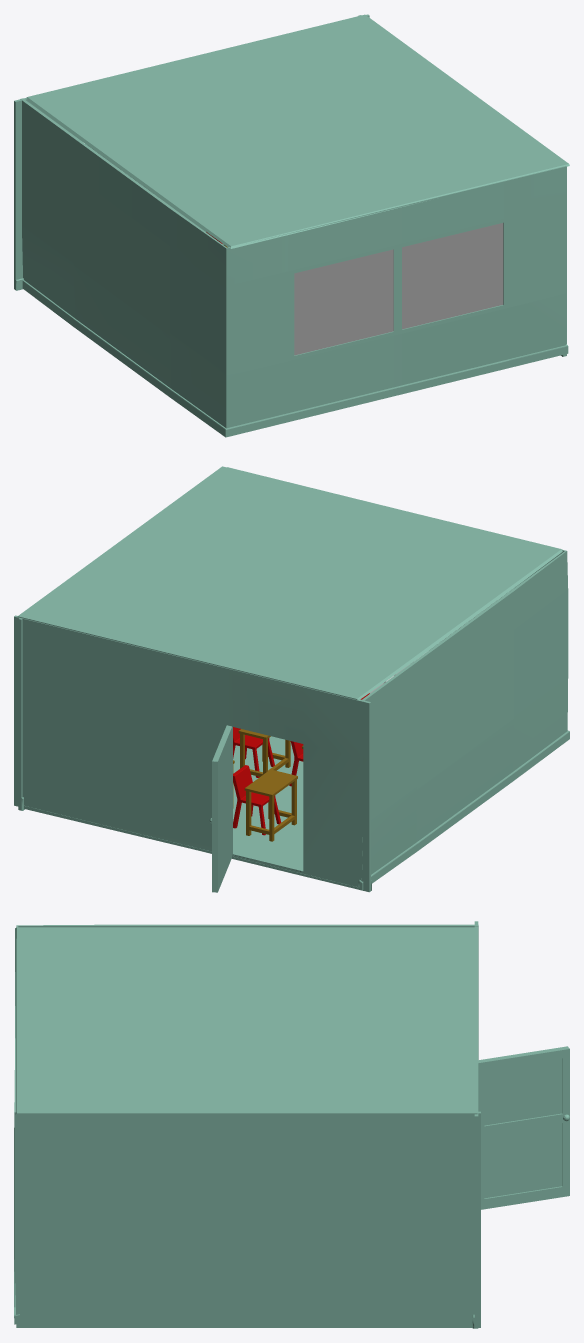
File: classroom colored.fbx
The picture shows the model from 3 angles, top to bottom: view 1: azimuth 30°, elevation 25°; view 2: azimuth 150°, elevation 25°; view 3: azimuth 270°, elevation 25°; orthographic projection. The views are drawn at different scales.
Visible parts, largest first — view 1: polySurface18, polySurface8, polySurface20, polySurface21, polySurface31; view 2: polySurface8, polySurface31, polySurface18, polySurface32, pCube16, polySurface28, polySurface2, pCube14, polySurface26; view 3: polySurface2, polySurface8, polySurface32, polySurface18, polySurface31.
Part boxes in pixels (x1,y1,x2,y2): polySurface18: (20, 98, 568, 437); polySurface8: (26, 14, 569, 248); polySurface20: (402, 223, 503, 329); polySurface21: (294, 249, 393, 355); polySurface31: (14, 14, 369, 290); polySurface8: (17, 466, 562, 699); polySurface31: (14, 615, 371, 892); polySurface18: (24, 467, 569, 890); polySurface32: (212, 725, 232, 892); pCube16: (244, 769, 297, 841); polySurface28: (233, 765, 281, 835); polySurface2: (18, 618, 24, 810); pCube14: (238, 729, 290, 776); polySurface26: (233, 727, 274, 777); polySurface2: (16, 1111, 480, 1327); polySurface8: (15, 927, 477, 1116); polySurface32: (478, 1046, 569, 1209); polySurface18: (14, 924, 478, 1324); polySurface31: (472, 921, 478, 1328).
Size of the model in its own units: 23.74 by 12.26 by 28.61.
